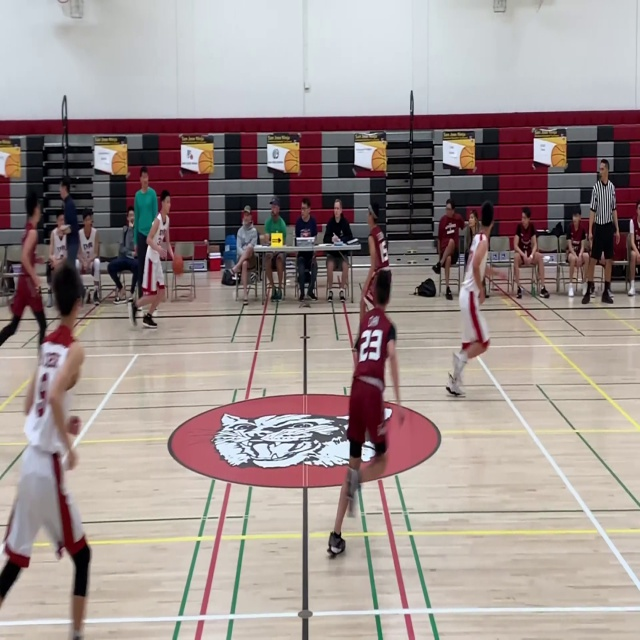Basketball: (172, 255, 183, 274)
